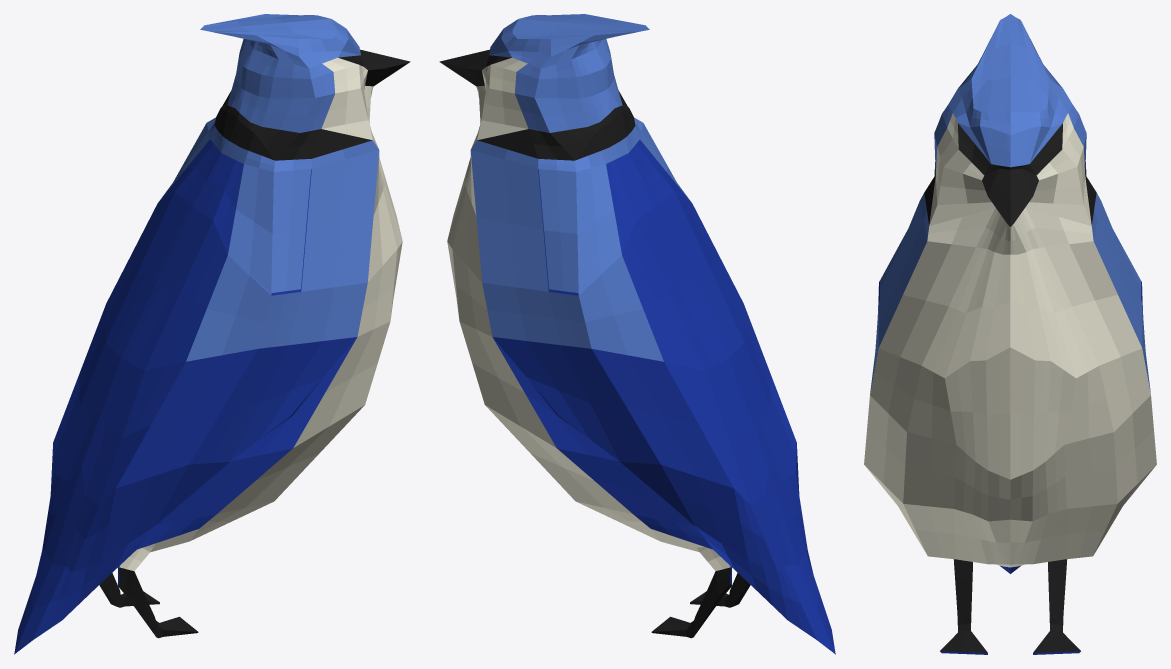
The model's file is bluejay.fbx.
The picture shows the model from 3 angles, left to right: view 1: azimuth 30°, elevation 25°; view 2: azimuth 150°, elevation 25°; view 3: azimuth 270°, elevation 25°; orthographic projection. The views are drawn at different scales.
Parts seen in each view (by area): view 1: Cube; view 2: Cube; view 3: Cube.
Part boxes in pixels (x1,y1,x2,y2): Cube: (14, 14, 410, 654); Cube: (439, 14, 835, 654); Cube: (864, 14, 1156, 654).
Bounding box in the file's own units: 292 × 407 × 163.
